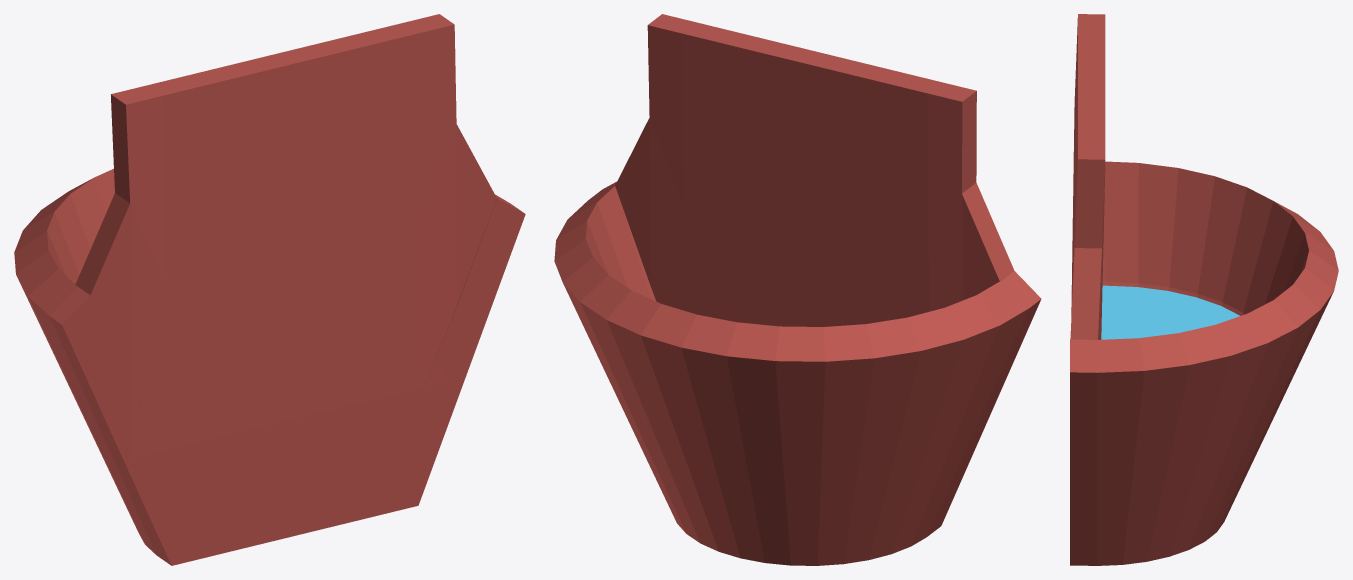
Rendered from Recipient Plant.5.fbx.
3 renders of one model, left to right at view 1: azimuth 30°, elevation 25°; view 2: azimuth 150°, elevation 25°; view 3: azimuth 270°, elevation 25°, orthographic. The views are drawn at different scales.
Visible parts, largest first — view 1: VPlanta; view 2: VPlanta; view 3: VPlanta, Círculo.
Part boxes in pixels (bbox=[...]): VPlanta: bbox=[14, 14, 525, 565]; VPlanta: bbox=[554, 14, 1041, 565]; VPlanta: bbox=[1070, 14, 1338, 565]; Círculo: bbox=[1101, 285, 1239, 339].
Bounding box in the file's own units: 100 × 97.11 × 55.7.
